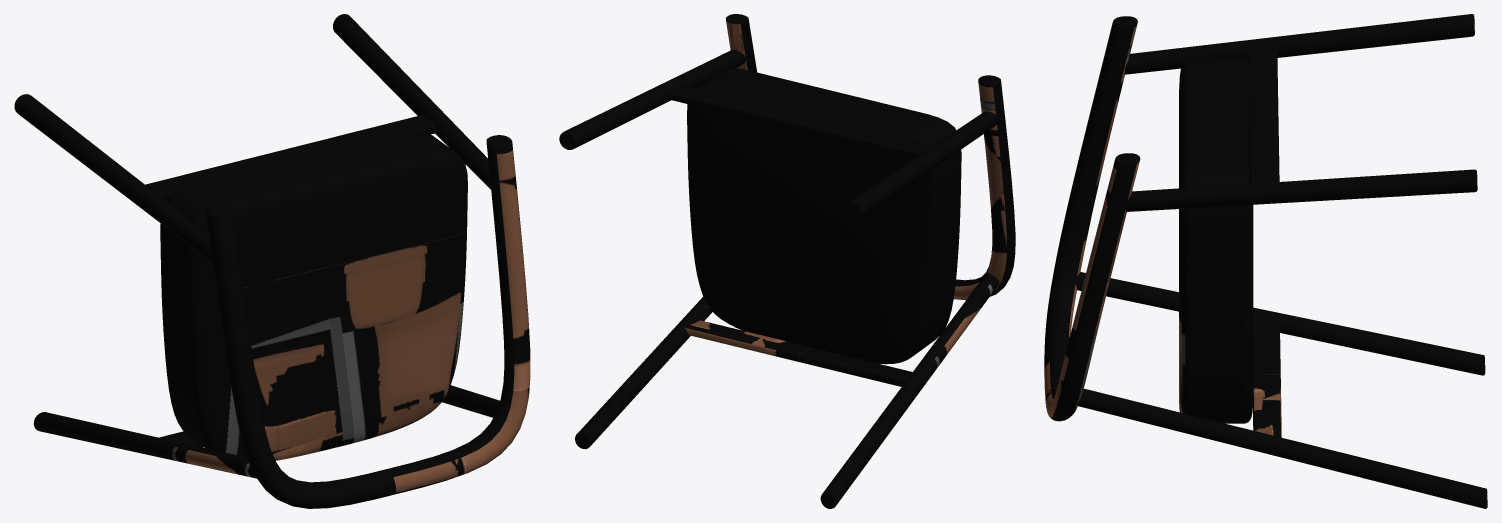
3 renders of one model, left to right at view 1: azimuth 30°, elevation 25°; view 2: azimuth 150°, elevation 25°; view 3: azimuth 270°, elevation 25°, orthographic. The views are drawn at different scales.
Bounding box in the file's own units: 0.6 × 0.5961 × 0.6766.
